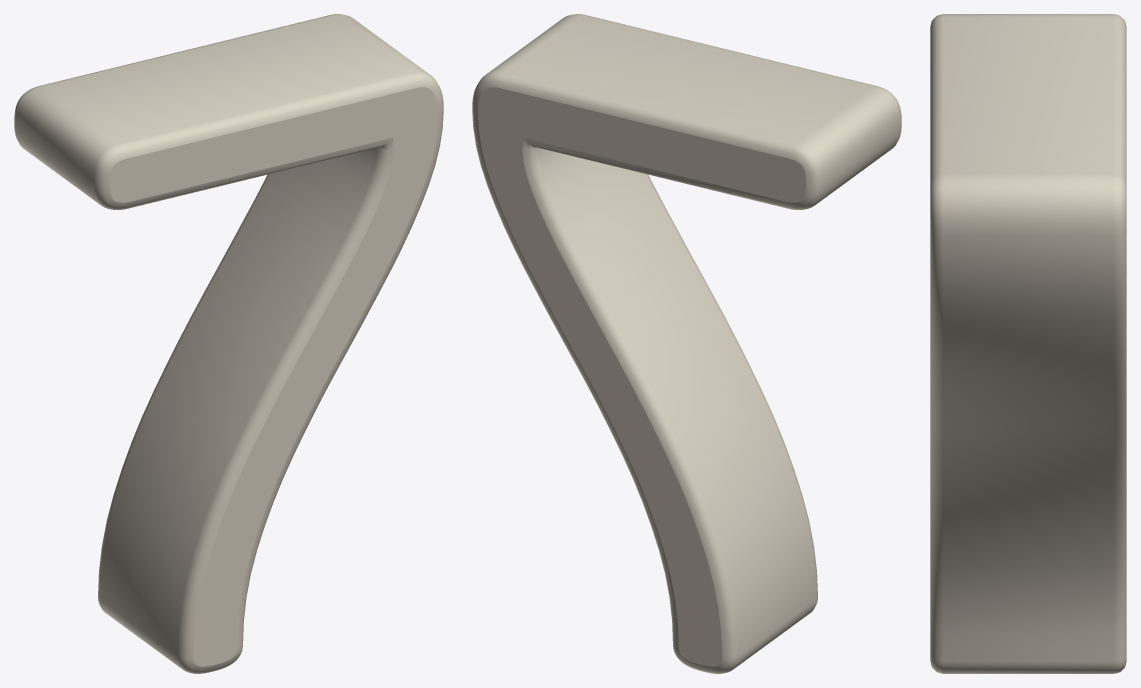
File: number_7.glb
3 views of the same model, side by side, from view 1: azimuth 30°, elevation 25°; view 2: azimuth 150°, elevation 25°; view 3: azimuth 270°, elevation 25° (orthographic). The views are drawn at different scales.
Parts seen in each view (by area): view 1: color_body; view 2: color_body; view 3: color_body.
Boxes of the visible parts, x1,y1,x2,y2 form: color_body: (14, 14, 443, 673); color_body: (472, 14, 901, 673); color_body: (930, 14, 1126, 673).
Bounding box in the file's own units: 0.5419 × 0.8159 × 0.242.
